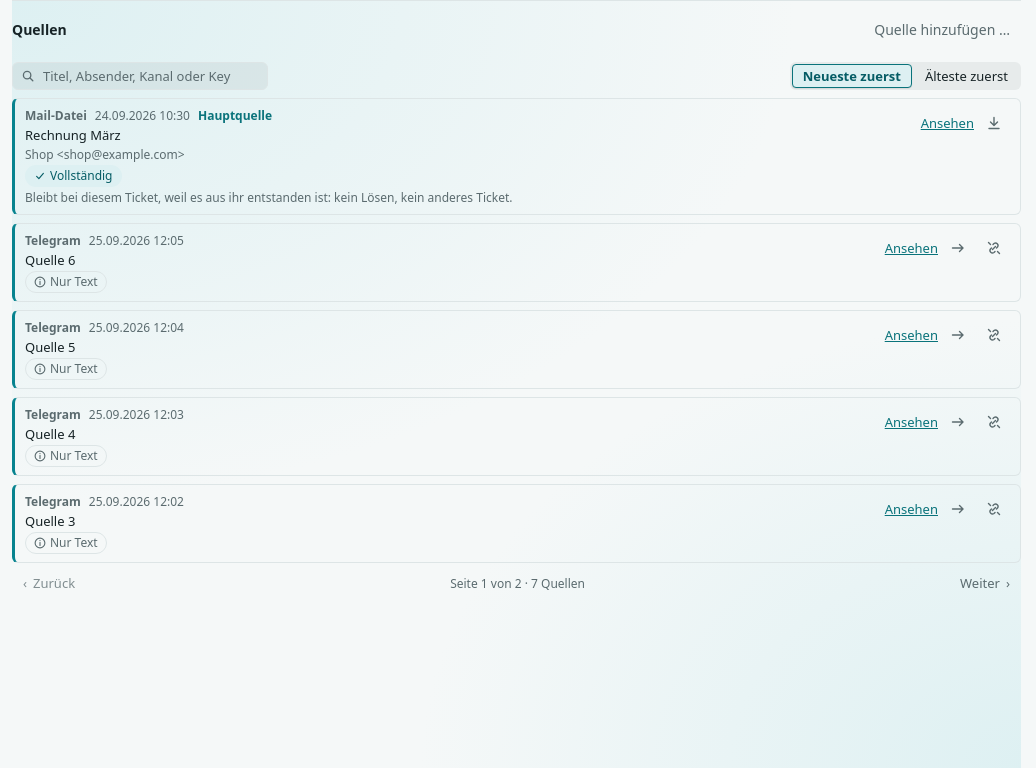
TicketSources in pages (TD-1) › shows five per page with the main source first on page 1, even as the oldest
Expected: the list item that starts with "Mail-Datei" shows "Hauptquelle", [198,107,272,124]
Step 1. Click the button named "Weiter zur nächsten Seite der Quellen" → (985,583), box [949,571,1021,595]
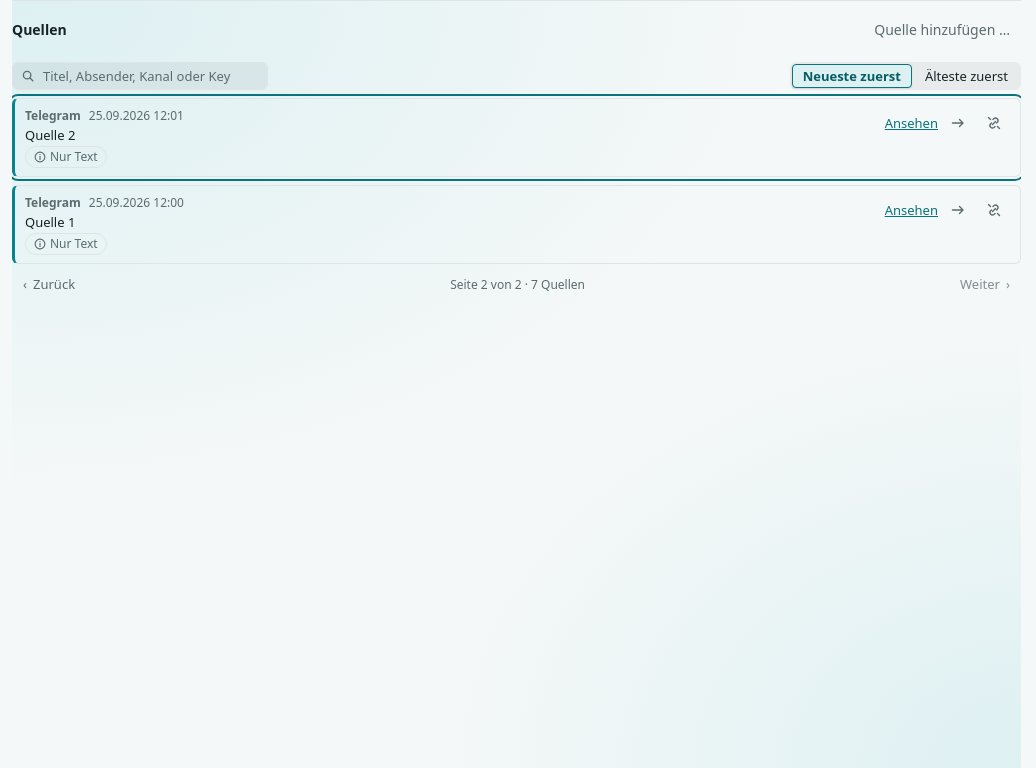
Expected: the text "Hauptquelle" is gone
Expected: the list item "Telegram 25.09.2026 12:01 Quelle 2 Nur Text Ansehen" is shown, [12,98,1021,177]
